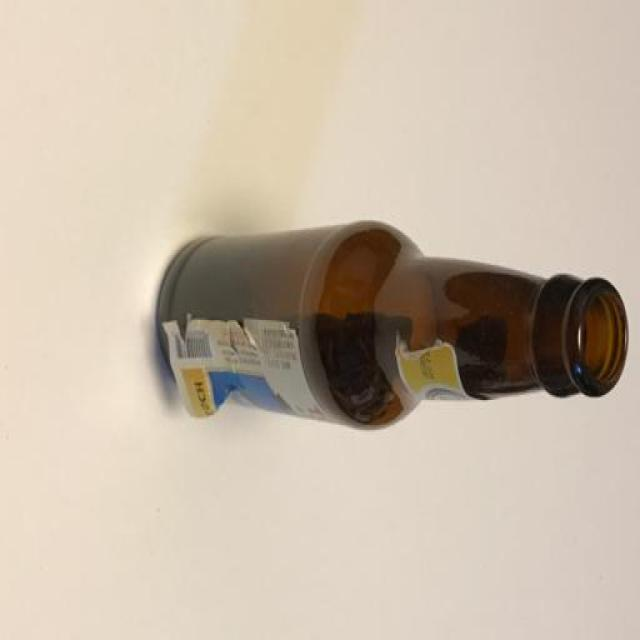glass: (154, 222, 630, 433)
